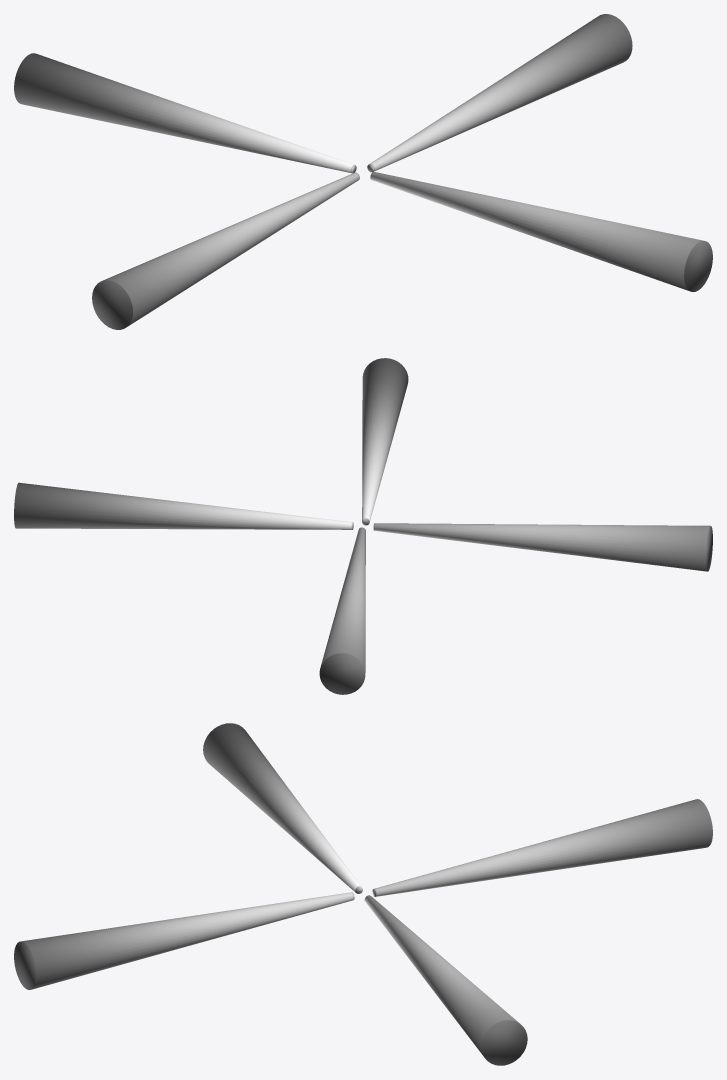
File: LightHouse.fbx
3 views of the same model, one above another, from view 1: azimuth 30°, elevation 25°; view 2: azimuth 150°, elevation 25°; view 3: azimuth 270°, elevation 25° (orthographic). The views are drawn at different scales.
Parts seen in each view (by area): view 1: Cylinder.001; view 2: Cylinder.001; view 3: Cylinder.001.
Part boxes in pixels (x1=…): Cylinder.001: x1=14, y1=14, x2=712, y2=329; Cylinder.001: x1=14, y1=358, x2=712, y2=694; Cylinder.001: x1=14, y1=723, x2=712, y2=1065.
Size of the model in its own units: 60240 by 4156 by 58416.
